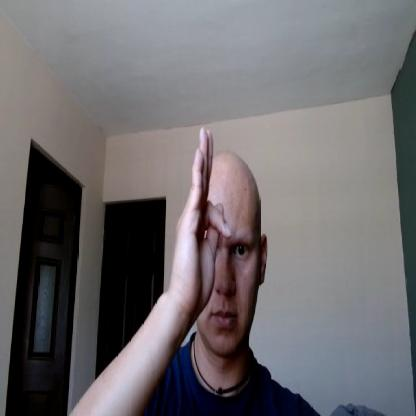F: (172, 126, 234, 312)
